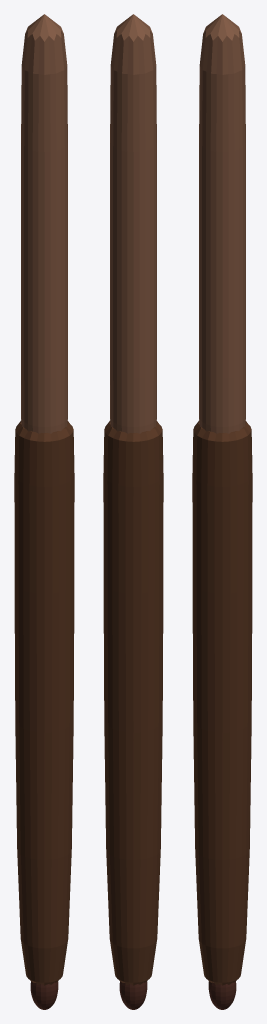
The model's file is Wand 16.glb.
3 views of the same model, side by side, from view 1: azimuth 30°, elevation 25°; view 2: azimuth 210°, elevation 25°; view 3: azimuth 330°, elevation 25° (orthographic).
Visible parts, largest first — view 1: GeneratedWand; view 2: GeneratedWand; view 3: GeneratedWand.
Boxes of the visible parts, box(x1,y1,x2,y2) form: GeneratedWand: box(14, 14, 74, 1009); GeneratedWand: box(103, 14, 163, 1009); GeneratedWand: box(192, 14, 252, 1009).
Size of the model in its own units: 0.0273 by 0.4992 by 0.0273.
